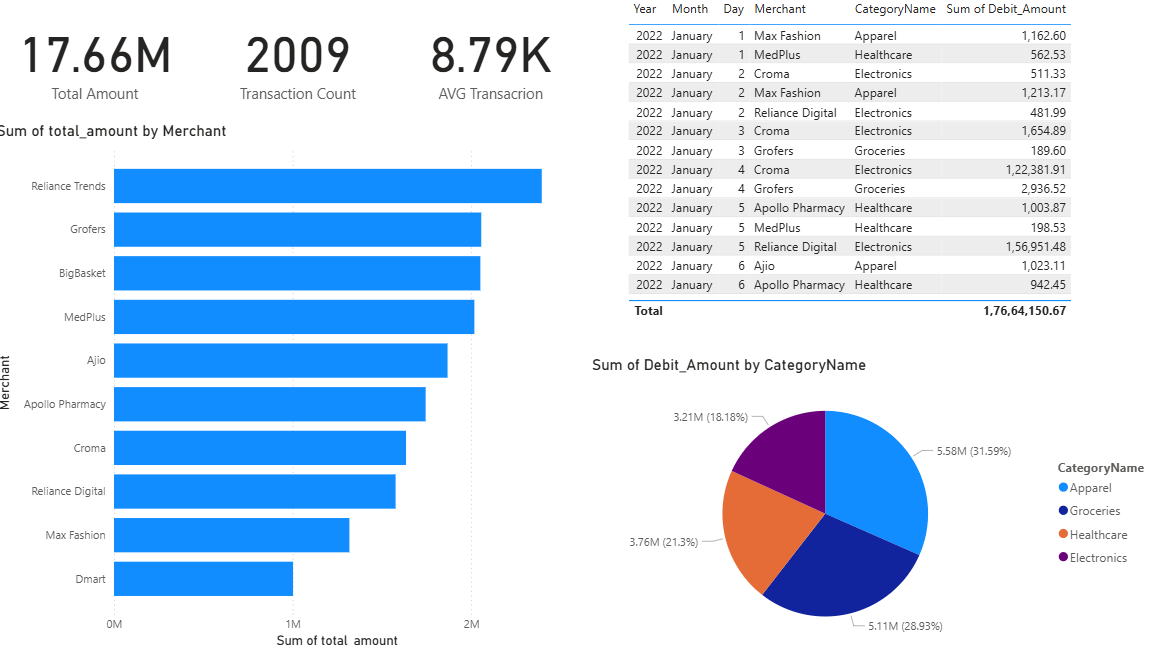

What the dashboard file says about the page in this screenshot:
{"tool":"powerbi","page":{"name":"Page 1","canvas":[1280,720],"ordinal":0},"visuals":[{"type":"card","fields":{"Values":["fact_transactions (2).Total Amount"]},"box":[0,0,224.3,140],"z":0},{"type":"card","fields":{"Values":["fact_transactions (2).Transaction Count"]},"box":[224.3,0,218.6,140],"z":1000},{"type":"card","fields":{"Values":["fact_transactions (2).AVG Transacrion"]},"box":[442.9,0,204.3,140],"z":2000},{"type":"barChart","fields":{"Category":["fact_transactions (2).Merchant"],"Y":["Sum(fact_transactions (2).total_amount)"]},"box":[0,140,640,580],"z":3000},{"type":"pieChart","fields":{"Category":["fact_transactions.CategoryName"],"Y":["Sum(fact_transactions.Debit_Amount)"]},"box":[650,394.3,630,325.7],"z":4000},{"type":"tableEx","fields":{"Values":["fact_transactions.Date.Variation.Date Hierarchy.Year","fact_transactions.Date.Variation.Date Hierarchy.Month","fact_transactions.Date.Variation.Date Hierarchy.Day","fact_transactions.Merchant","fact_transactions.CategoryName","Sum(fact_transactions.Debit_Amount)"]},"box":[690.6,0,588.7,360.4],"z":4001}]}

Visuals, with their boxes in screenshot pixels (x1, y1, x2, y2), scaled from the page's 1280x720 canvas onto the 1149x646 screenshot:
card - fact_transactions (2).Total Amount: select_region(0, 0, 201, 126)
card - fact_transactions (2).Transaction Count: select_region(201, 0, 398, 126)
card - fact_transactions (2).AVG Transacrion: select_region(398, 0, 581, 126)
barChart - fact_transactions (2).Merchant x Sum(fact_transactions (2).total_amount): select_region(0, 126, 574, 645)
pieChart - fact_transactions.CategoryName x Sum(fact_transactions.Debit_Amount): select_region(583, 354, 1148, 645)
tableEx - fact_transactions.Date.Variation.Date Hierarchy.Year x fact_transactions.Date.Variation.Date Hierarchy.Month: select_region(620, 0, 1148, 323)
